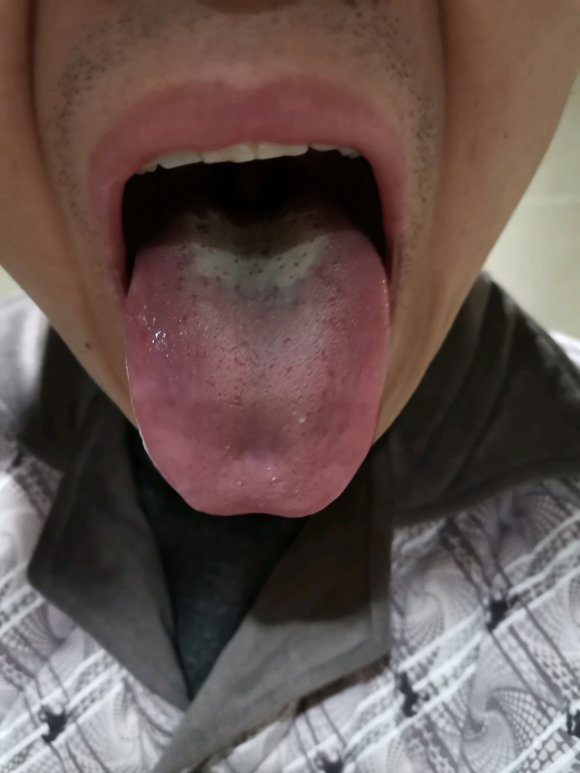hongdianshe: (292, 258, 300, 268), (233, 255, 239, 265), (234, 281, 240, 291)
hongshe: (126, 198, 388, 519)
huangtaishe: (126, 198, 388, 519)
